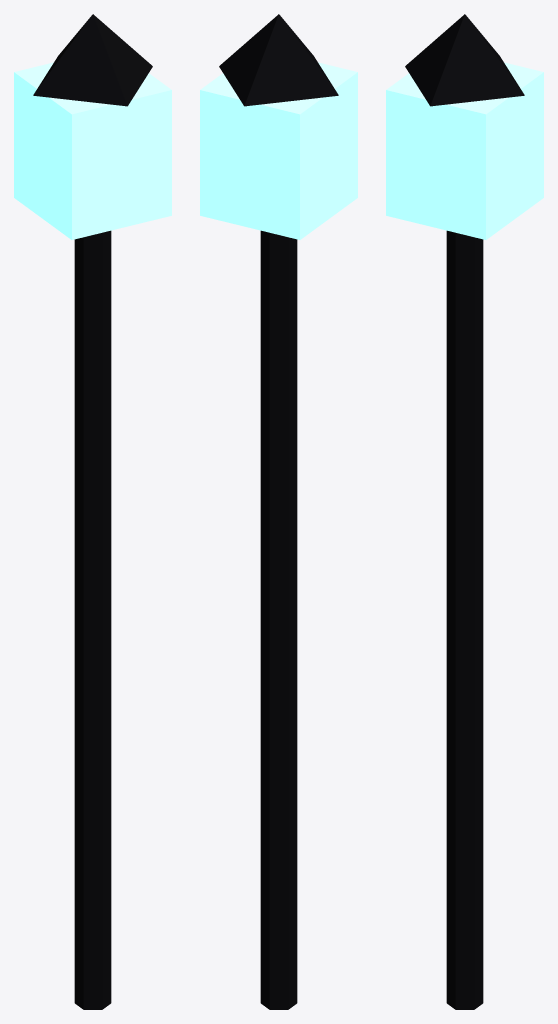
File: Prop_OR_Lantern_05.glb
3 views of the same model, side by side, from view 1: azimuth 30°, elevation 25°; view 2: azimuth 150°, elevation 25°; view 3: azimuth 330°, elevation 25° (orthographic).
Visible parts, largest first — view 1: Prop_OR_Lantern_05; view 2: Prop_OR_Lantern_05; view 3: Prop_OR_Lantern_05.
Part boxes in pixels (x1,y1,x2,y2): Prop_OR_Lantern_05: (14, 14, 171, 1009); Prop_OR_Lantern_05: (200, 14, 357, 1009); Prop_OR_Lantern_05: (386, 14, 543, 1009).
Bounding box in the file's own units: 0.3 × 2.36 × 0.3.
